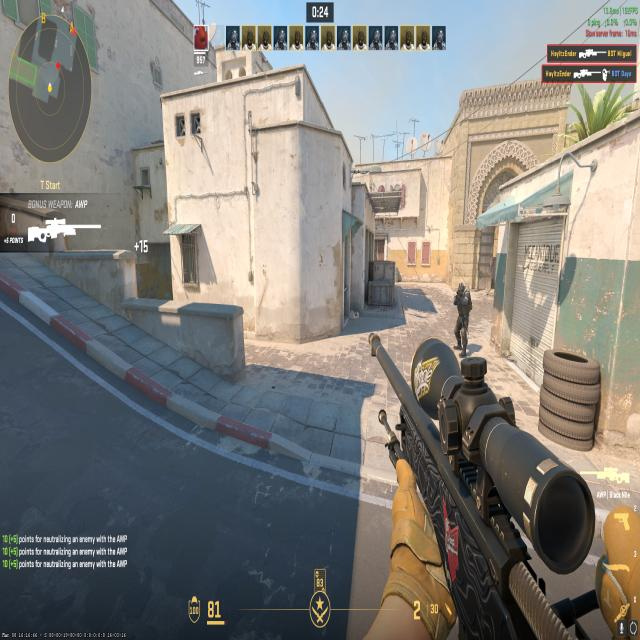ct: (441, 267, 479, 365)
